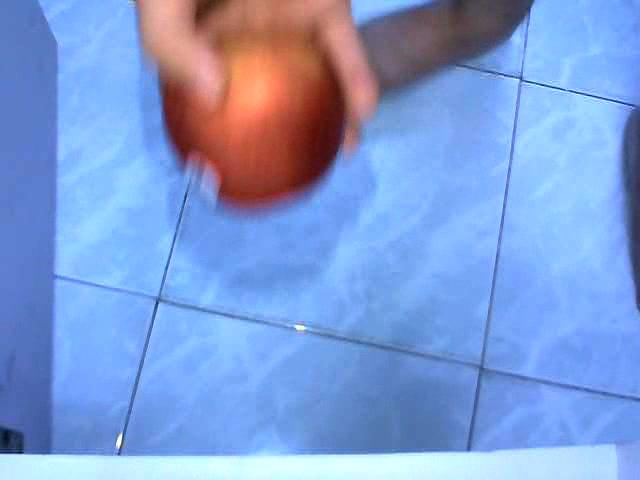apple: (161, 27, 348, 211)
